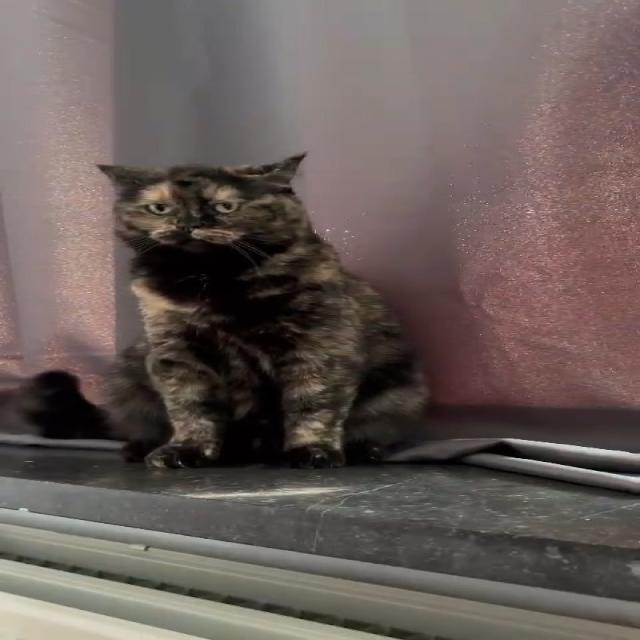authorized: (94, 151, 430, 469)
